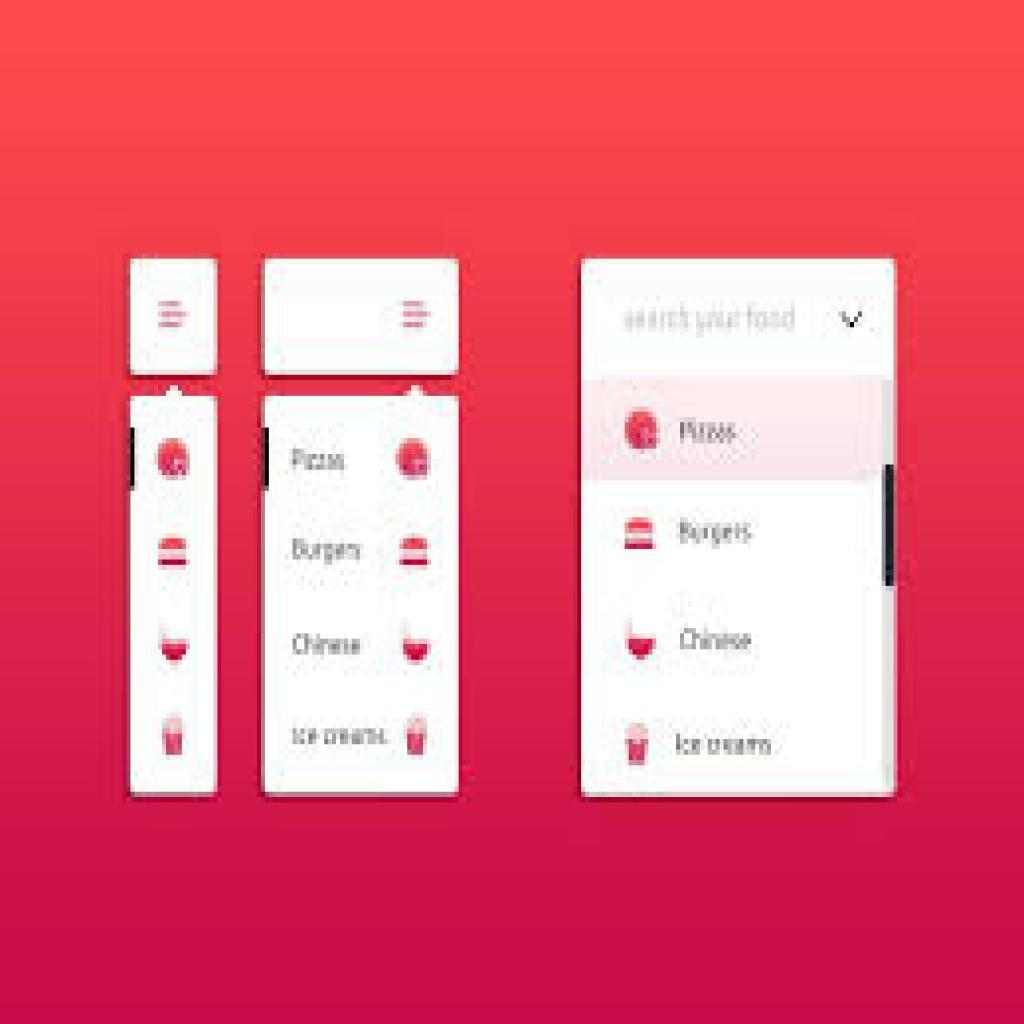dropdown: (583, 263, 898, 378)
icon: (391, 434, 438, 485), (156, 617, 195, 678), (621, 408, 669, 457), (622, 715, 657, 778), (398, 284, 434, 342), (161, 708, 197, 765), (622, 616, 663, 666), (152, 438, 195, 484), (153, 292, 193, 341), (400, 712, 437, 762), (153, 532, 195, 576), (397, 532, 437, 575), (401, 621, 437, 668), (623, 512, 658, 554)
input: (263, 260, 458, 377)
